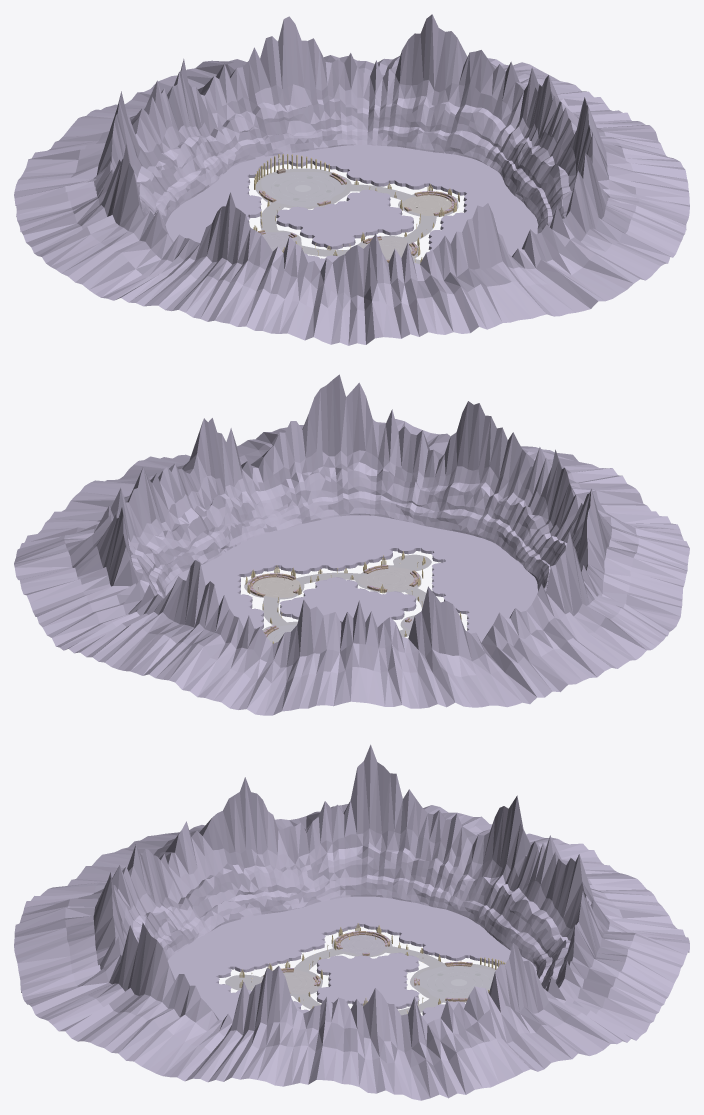
File: map_dg_conservatory.glb
3 views of the same model, one above another, from view 1: azimuth 30°, elevation 25°; view 2: azimuth 150°, elevation 25°; view 3: azimuth 270°, elevation 25° (orthographic).
Parts seen in each view (by area): view 1: Z_dg_conservatory_penhascos, Z_dg_conservatory_morro_parede_0_0, Z_dg_conservatory_chao_concerto, Z_dg_conservatory_chao_ala_leste, Z_dg_conservatory_praca_concerto, Z_dg_conservatory_chao_atrio; view 2: Z_dg_conservatory_penhascos, Z_dg_conservatory_morro_parede_0_0, Z_dg_conservatory_chao_atrio, Z_dg_conservatory_chao_ala_leste; view 3: Z_dg_conservatory_penhascos, Z_dg_conservatory_morro_parede_0_0, Z_dg_conservatory_chao_concerto, Z_dg_conservatory_chao_ala_oeste, Z_dg_conservatory_chao_atrio.
Part boxes in pixels (x1,y1,x2,y2): Z_dg_conservatory_penhascos: [14, 14, 689, 345]; Z_dg_conservatory_morro_parede_0_0: [165, 144, 538, 270]; Z_dg_conservatory_chao_concerto: [261, 172, 346, 206]; Z_dg_conservatory_chao_ala_leste: [402, 194, 451, 215]; Z_dg_conservatory_praca_concerto: [255, 168, 351, 208]; Z_dg_conservatory_chao_atrio: [361, 237, 414, 259]; Z_dg_conservatory_penhascos: [14, 374, 689, 715]; Z_dg_conservatory_morro_parede_0_0: [165, 515, 537, 642]; Z_dg_conservatory_chao_atrio: [358, 566, 417, 590]; Z_dg_conservatory_chao_ala_leste: [247, 576, 299, 597]; Z_dg_conservatory_penhascos: [14, 744, 689, 1100]; Z_dg_conservatory_morro_parede_0_0: [167, 896, 536, 1023]; Z_dg_conservatory_chao_concerto: [416, 965, 494, 1001]; Z_dg_conservatory_chao_ala_oeste: [337, 934, 387, 955]; Z_dg_conservatory_chao_atrio: [260, 969, 317, 994].
Size of the model in its own units: 283 by 60.01 by 281.
